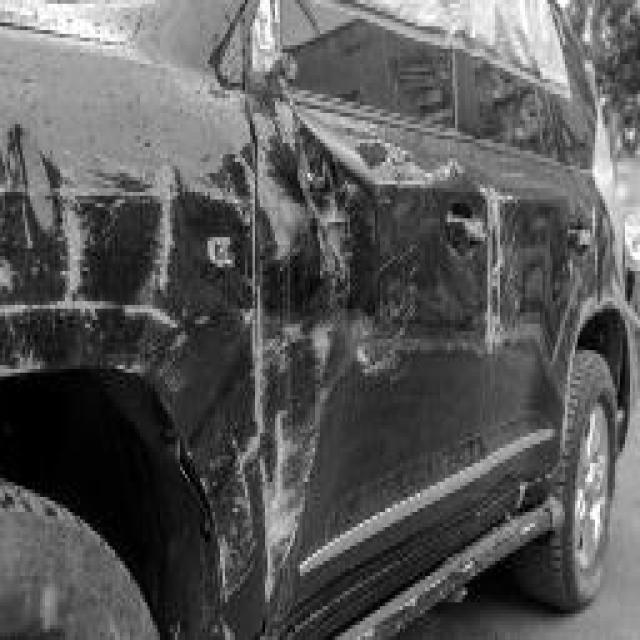Door: (232, 102, 562, 580)
Fender: (0, 34, 245, 410)
